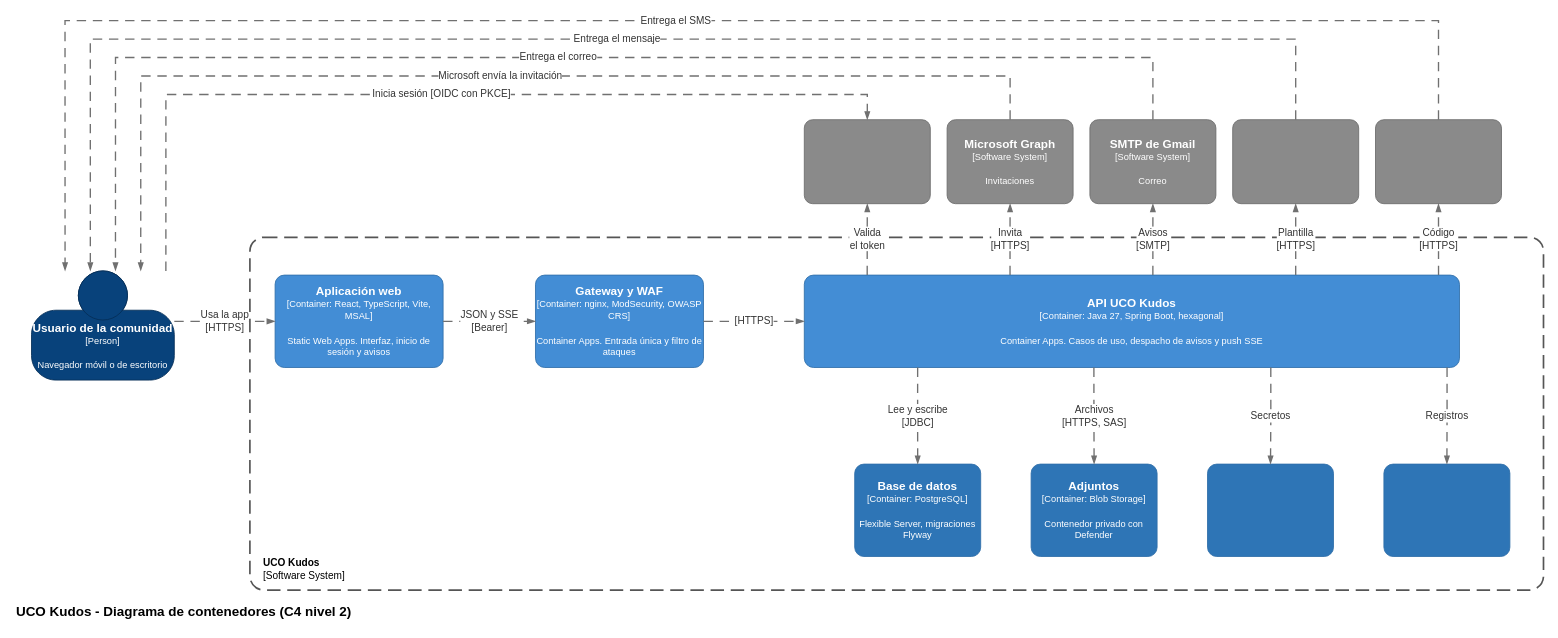
This 1558x638 diagram has some shape labels left out. Here are the shapes that lost their labels. From the top down, the centre of each, then its label:
At point (866, 161): "Microsoft Entra ID [Software System] Inicio de sesión".
At point (1295, 161): "WhatsApp Cloud API [Software System] Meta".
At point (1438, 161): "Vonage SMS [Software System] Código del celular".
At point (1270, 509): "Secretos [Container: Key Vault] Claves de terceros".
At point (1446, 509): "Registros [Container: Log Analytics] Salida de los contenedores".
